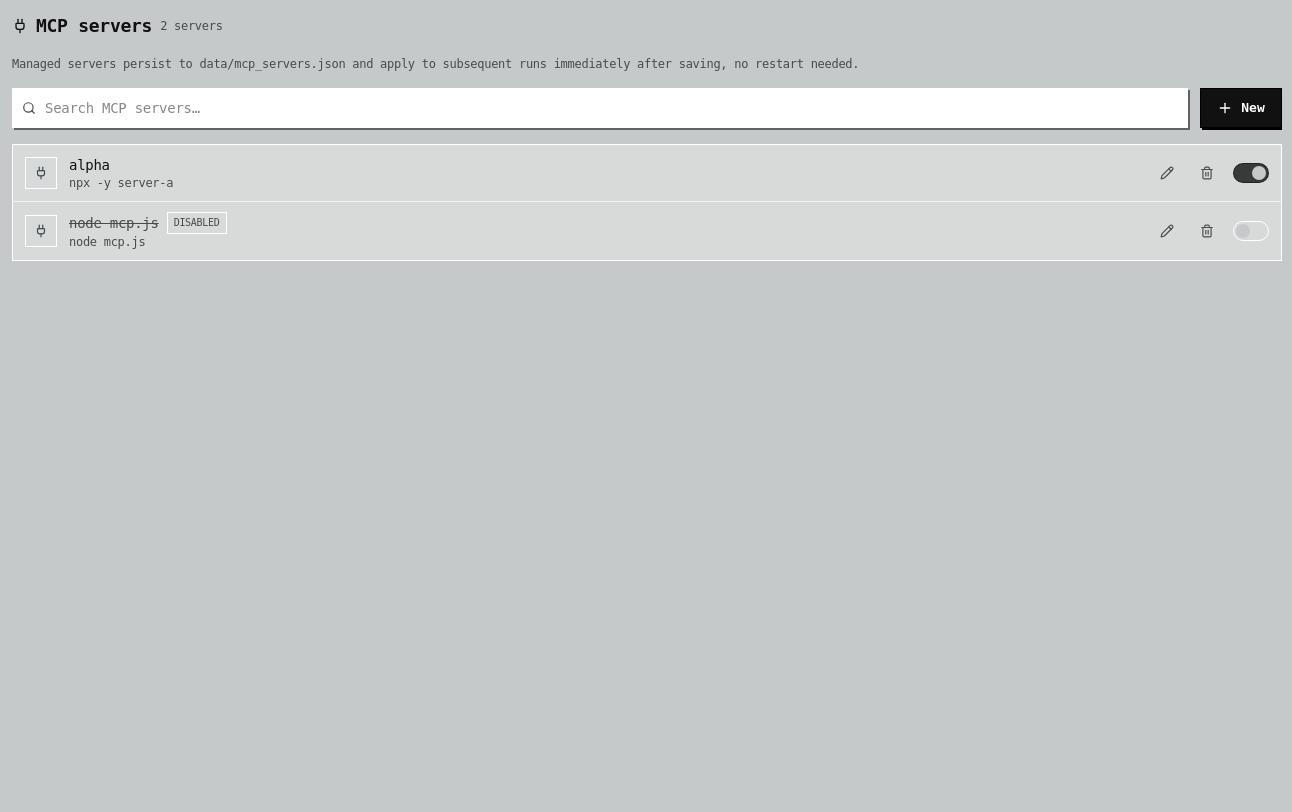
Test: MCP server form › carries the stored environment, timeout, and tools into the edit draft
This screenshot has width=1292, height=812.
Expected: the text "alpha" is shown, [69, 155, 110, 175]
Click the button named "Edit MCP server alpha" at x=1167, y=173, box [1153, 159, 1181, 187]
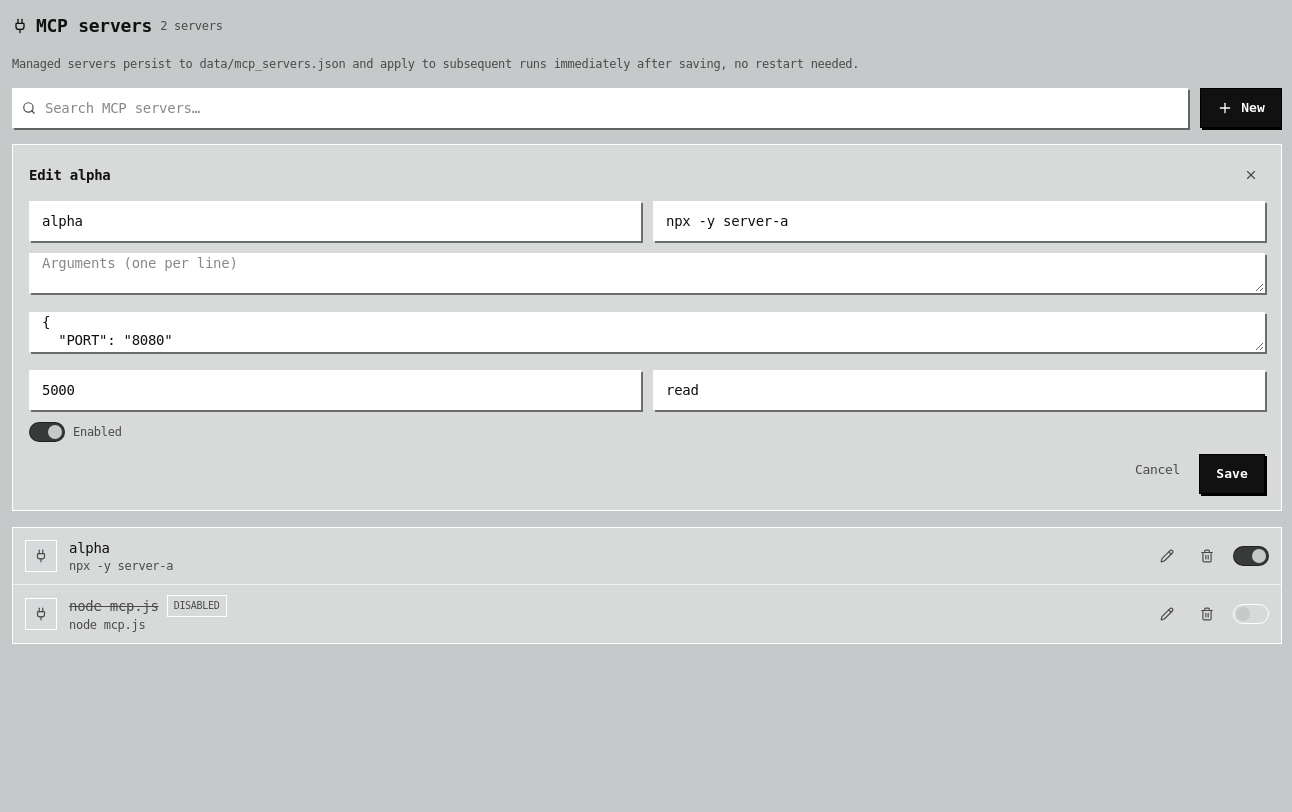
Expected: the 3rd field with placeholder "Timeout ms (optional)" holds "5000", [29, 370, 641, 410]
Expected: the 4th field with placeholder "Allowed tools (comma-separated, empty = all)" holds "read", [653, 370, 1265, 410]
